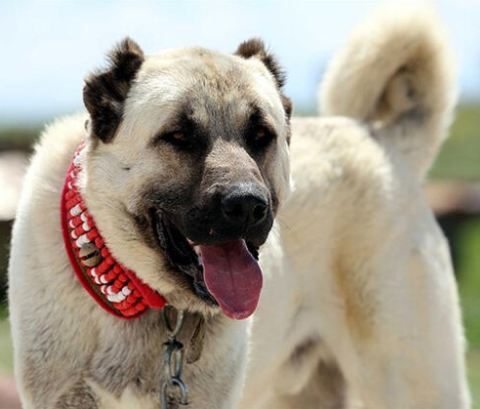dog: (13, 20, 470, 409)
